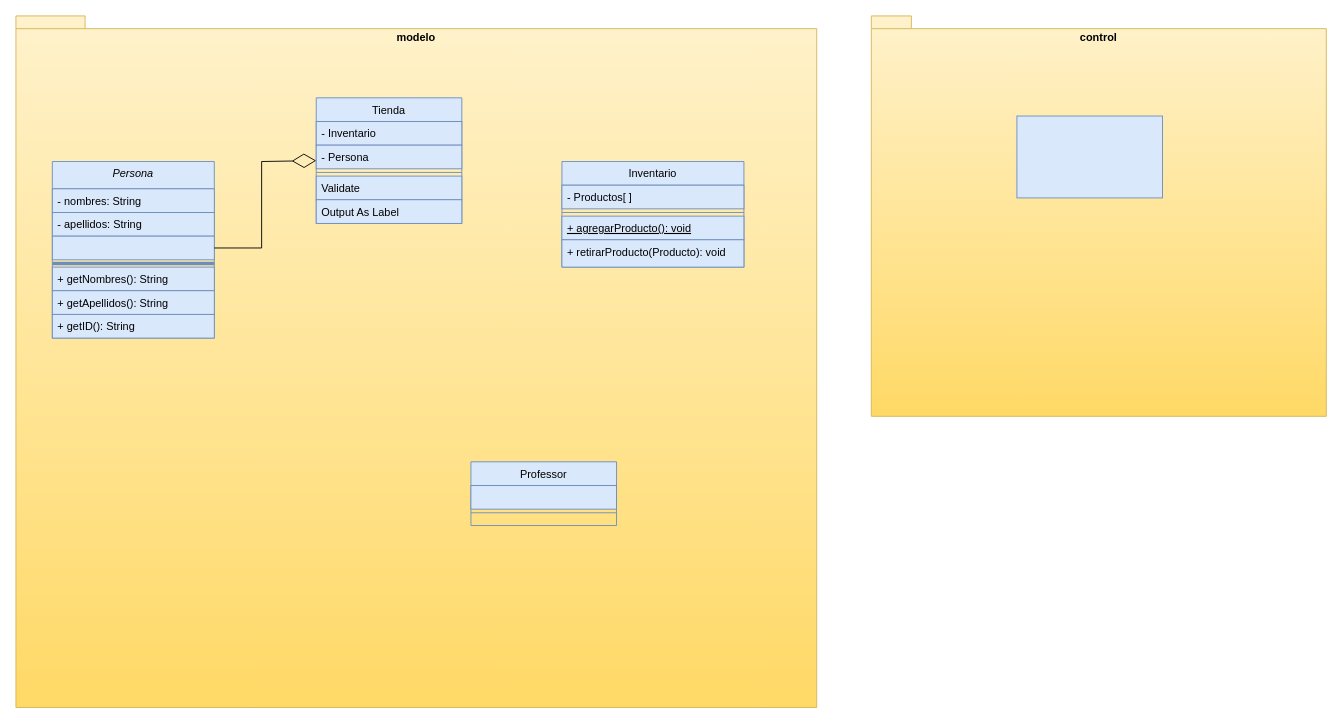
The diagram is 1342 pixels wide and 723 high, and some of its shapes have lost their labels. Here are the shapes that lost their labels. From the top down, the centre of each, then its label:
(1089,156): Class + field: Type + method(): Type
(132,247): - id: String
(543,497): Salary
